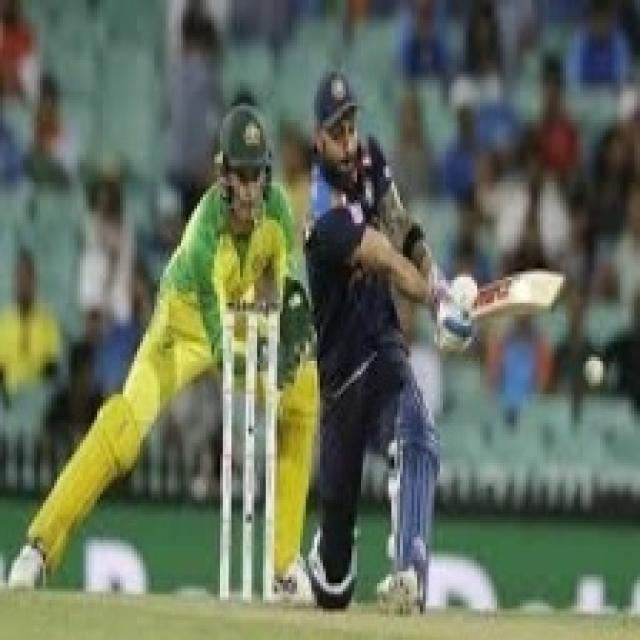batsman: (293, 61, 568, 612)
wicket: (223, 293, 280, 607)
